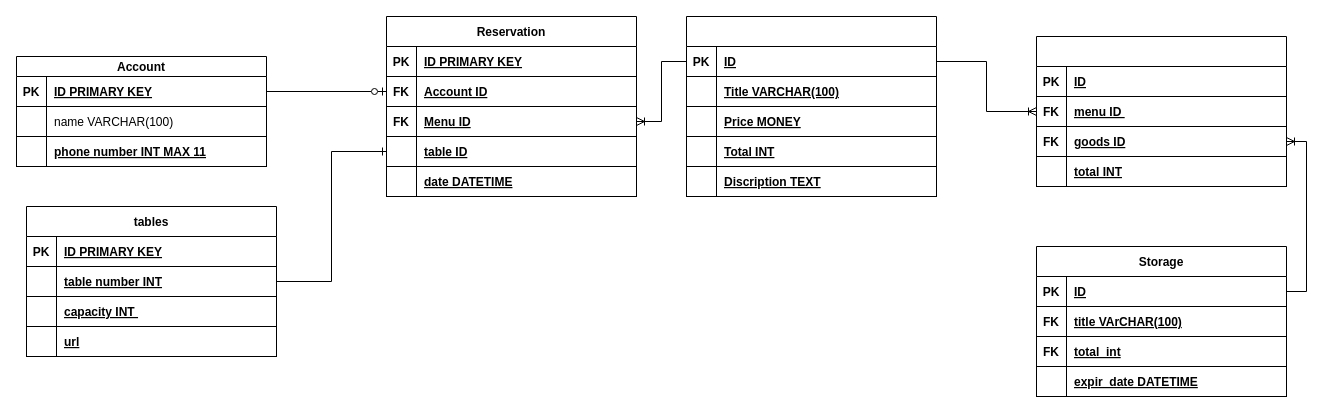
Some shapes in this 1323 by 413 pixel diagram are drawn without their labels. Here are the shapes that lost their labels. From the top down, the box of each, then its label:
(686, 16, 936, 196): Menu
(1036, 36, 1286, 186): Materal
